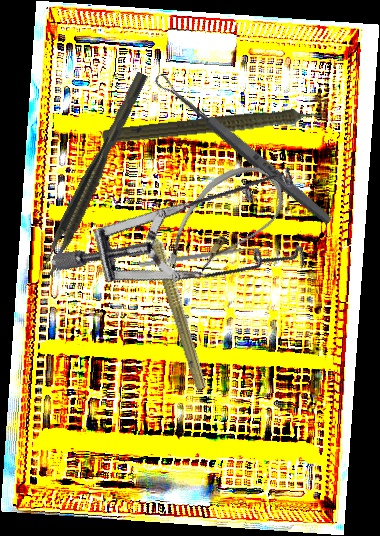Cannula: (154, 149, 294, 299)
Handpiece: (139, 207, 214, 392), (101, 100, 340, 154)
Spatula Surgical: (138, 243, 259, 273)
Speculum: (49, 98, 336, 354)
Surgical Spoon: (152, 70, 335, 228)
Tissue Forceps: (36, 71, 155, 277)
